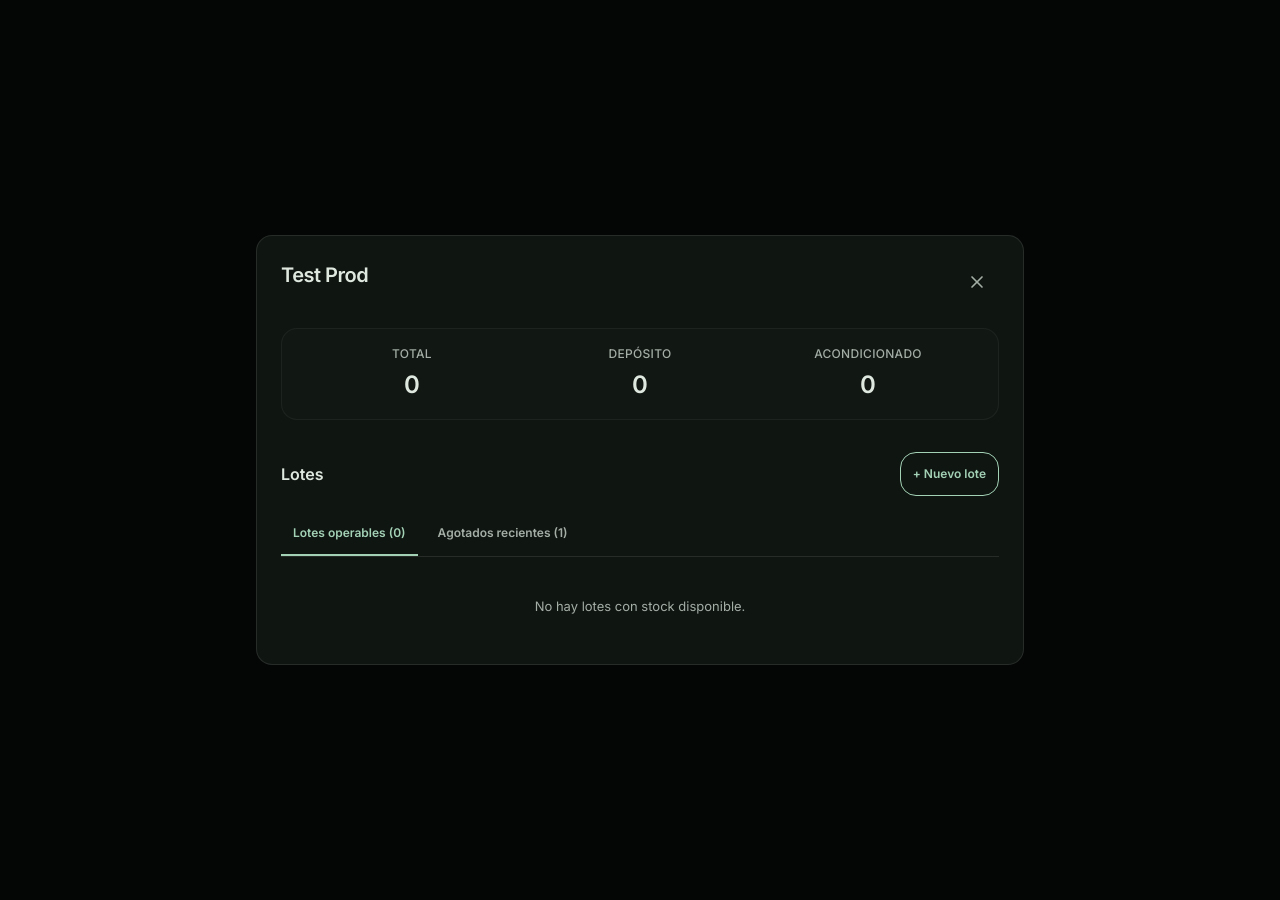
it: GestionarStockModal › shows an active zero-stock lot so it can be adjusted or replenished
This screenshot has width=1280, height=900.
Click the tab "Agotados recientes (1)": point(503, 534) [426, 512, 580, 556]
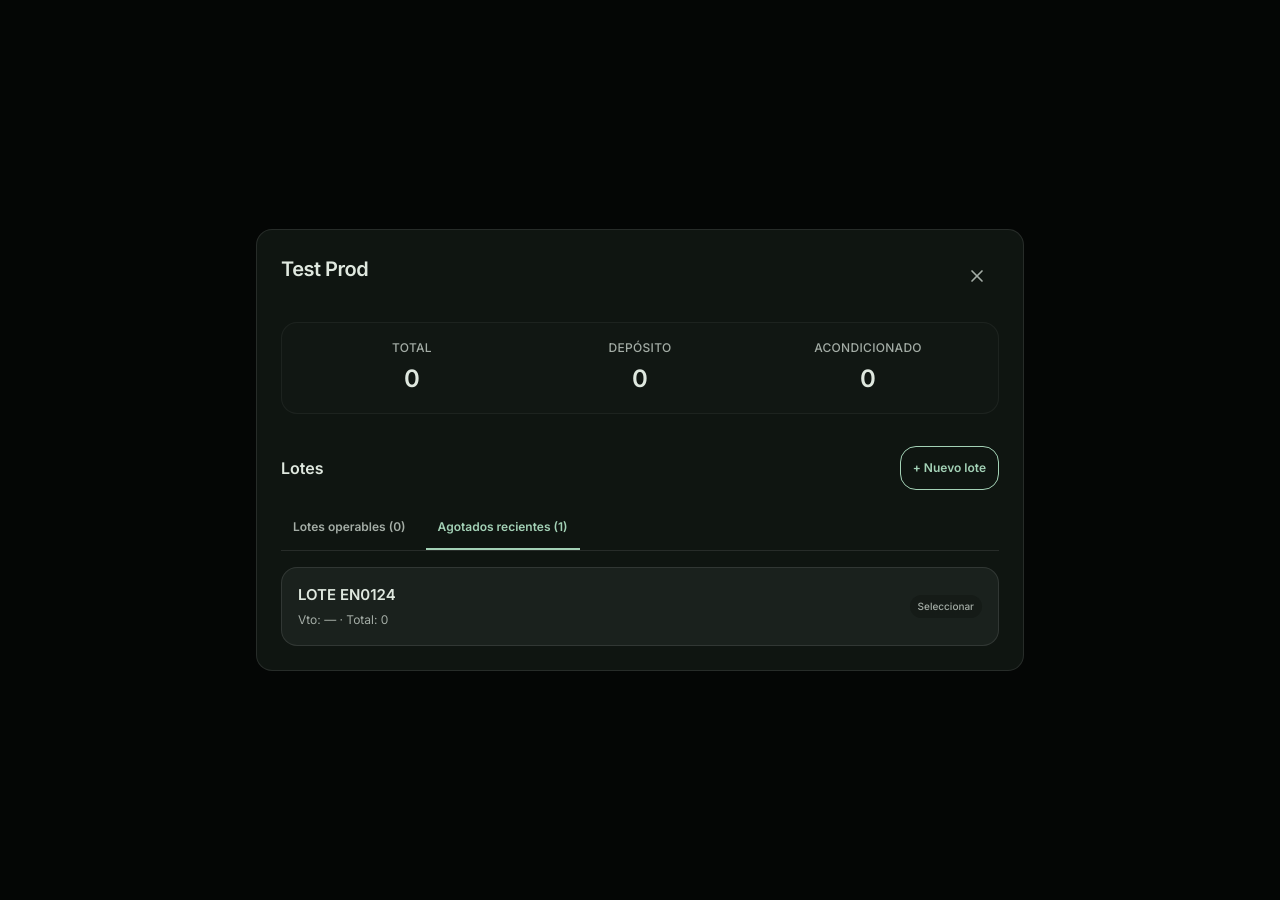
Click the button "LOTE EN0124 Vto: — · Total: 0 Seleccionar": point(319, 595) [298, 584, 982, 629]
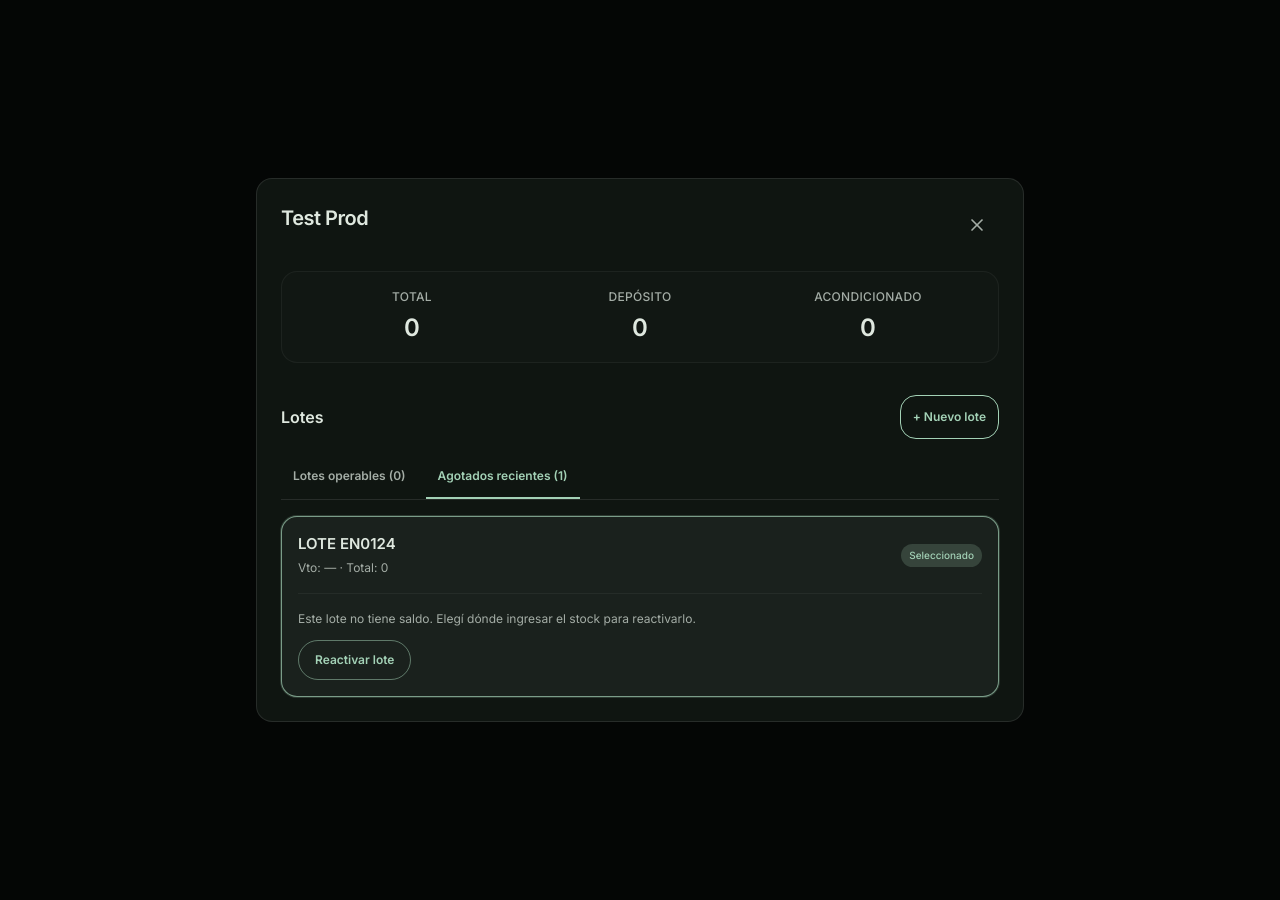
Expected: the button with aria-label "Reactivar lote EN0124" is shown, [298, 640, 411, 680]
